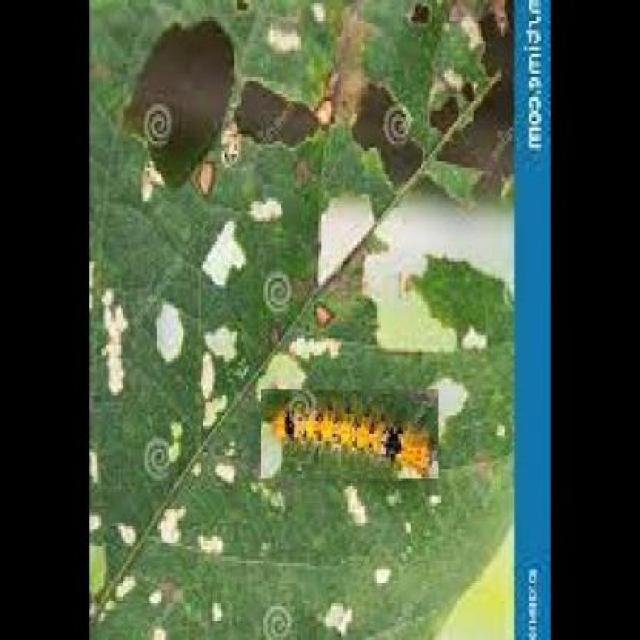Plaga: (259, 389, 441, 481)
